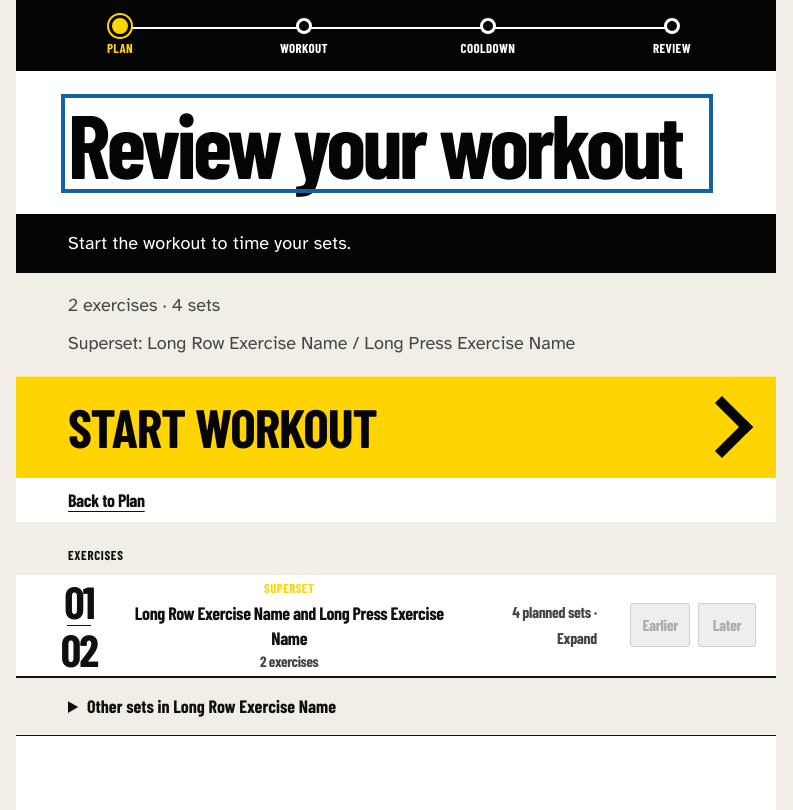
omits member context from Plan supersets
Click the button with aria-label "Superset: Long Row Exercise Name and Long Press Exercise Nam" at {"x": 323, "y": 625}, box top-left (16, 574), bottom-right (630, 676)
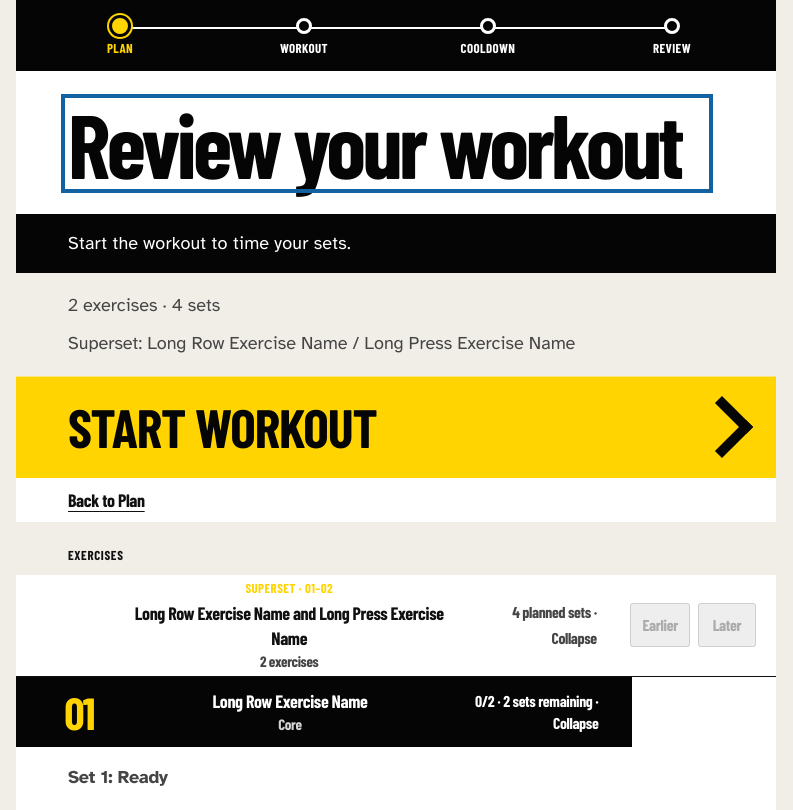
Result: the button with aria-label "Long Row Exercise Name, 0 of 2 confirmed" is shown at top-left (16, 677), bottom-right (632, 747)
